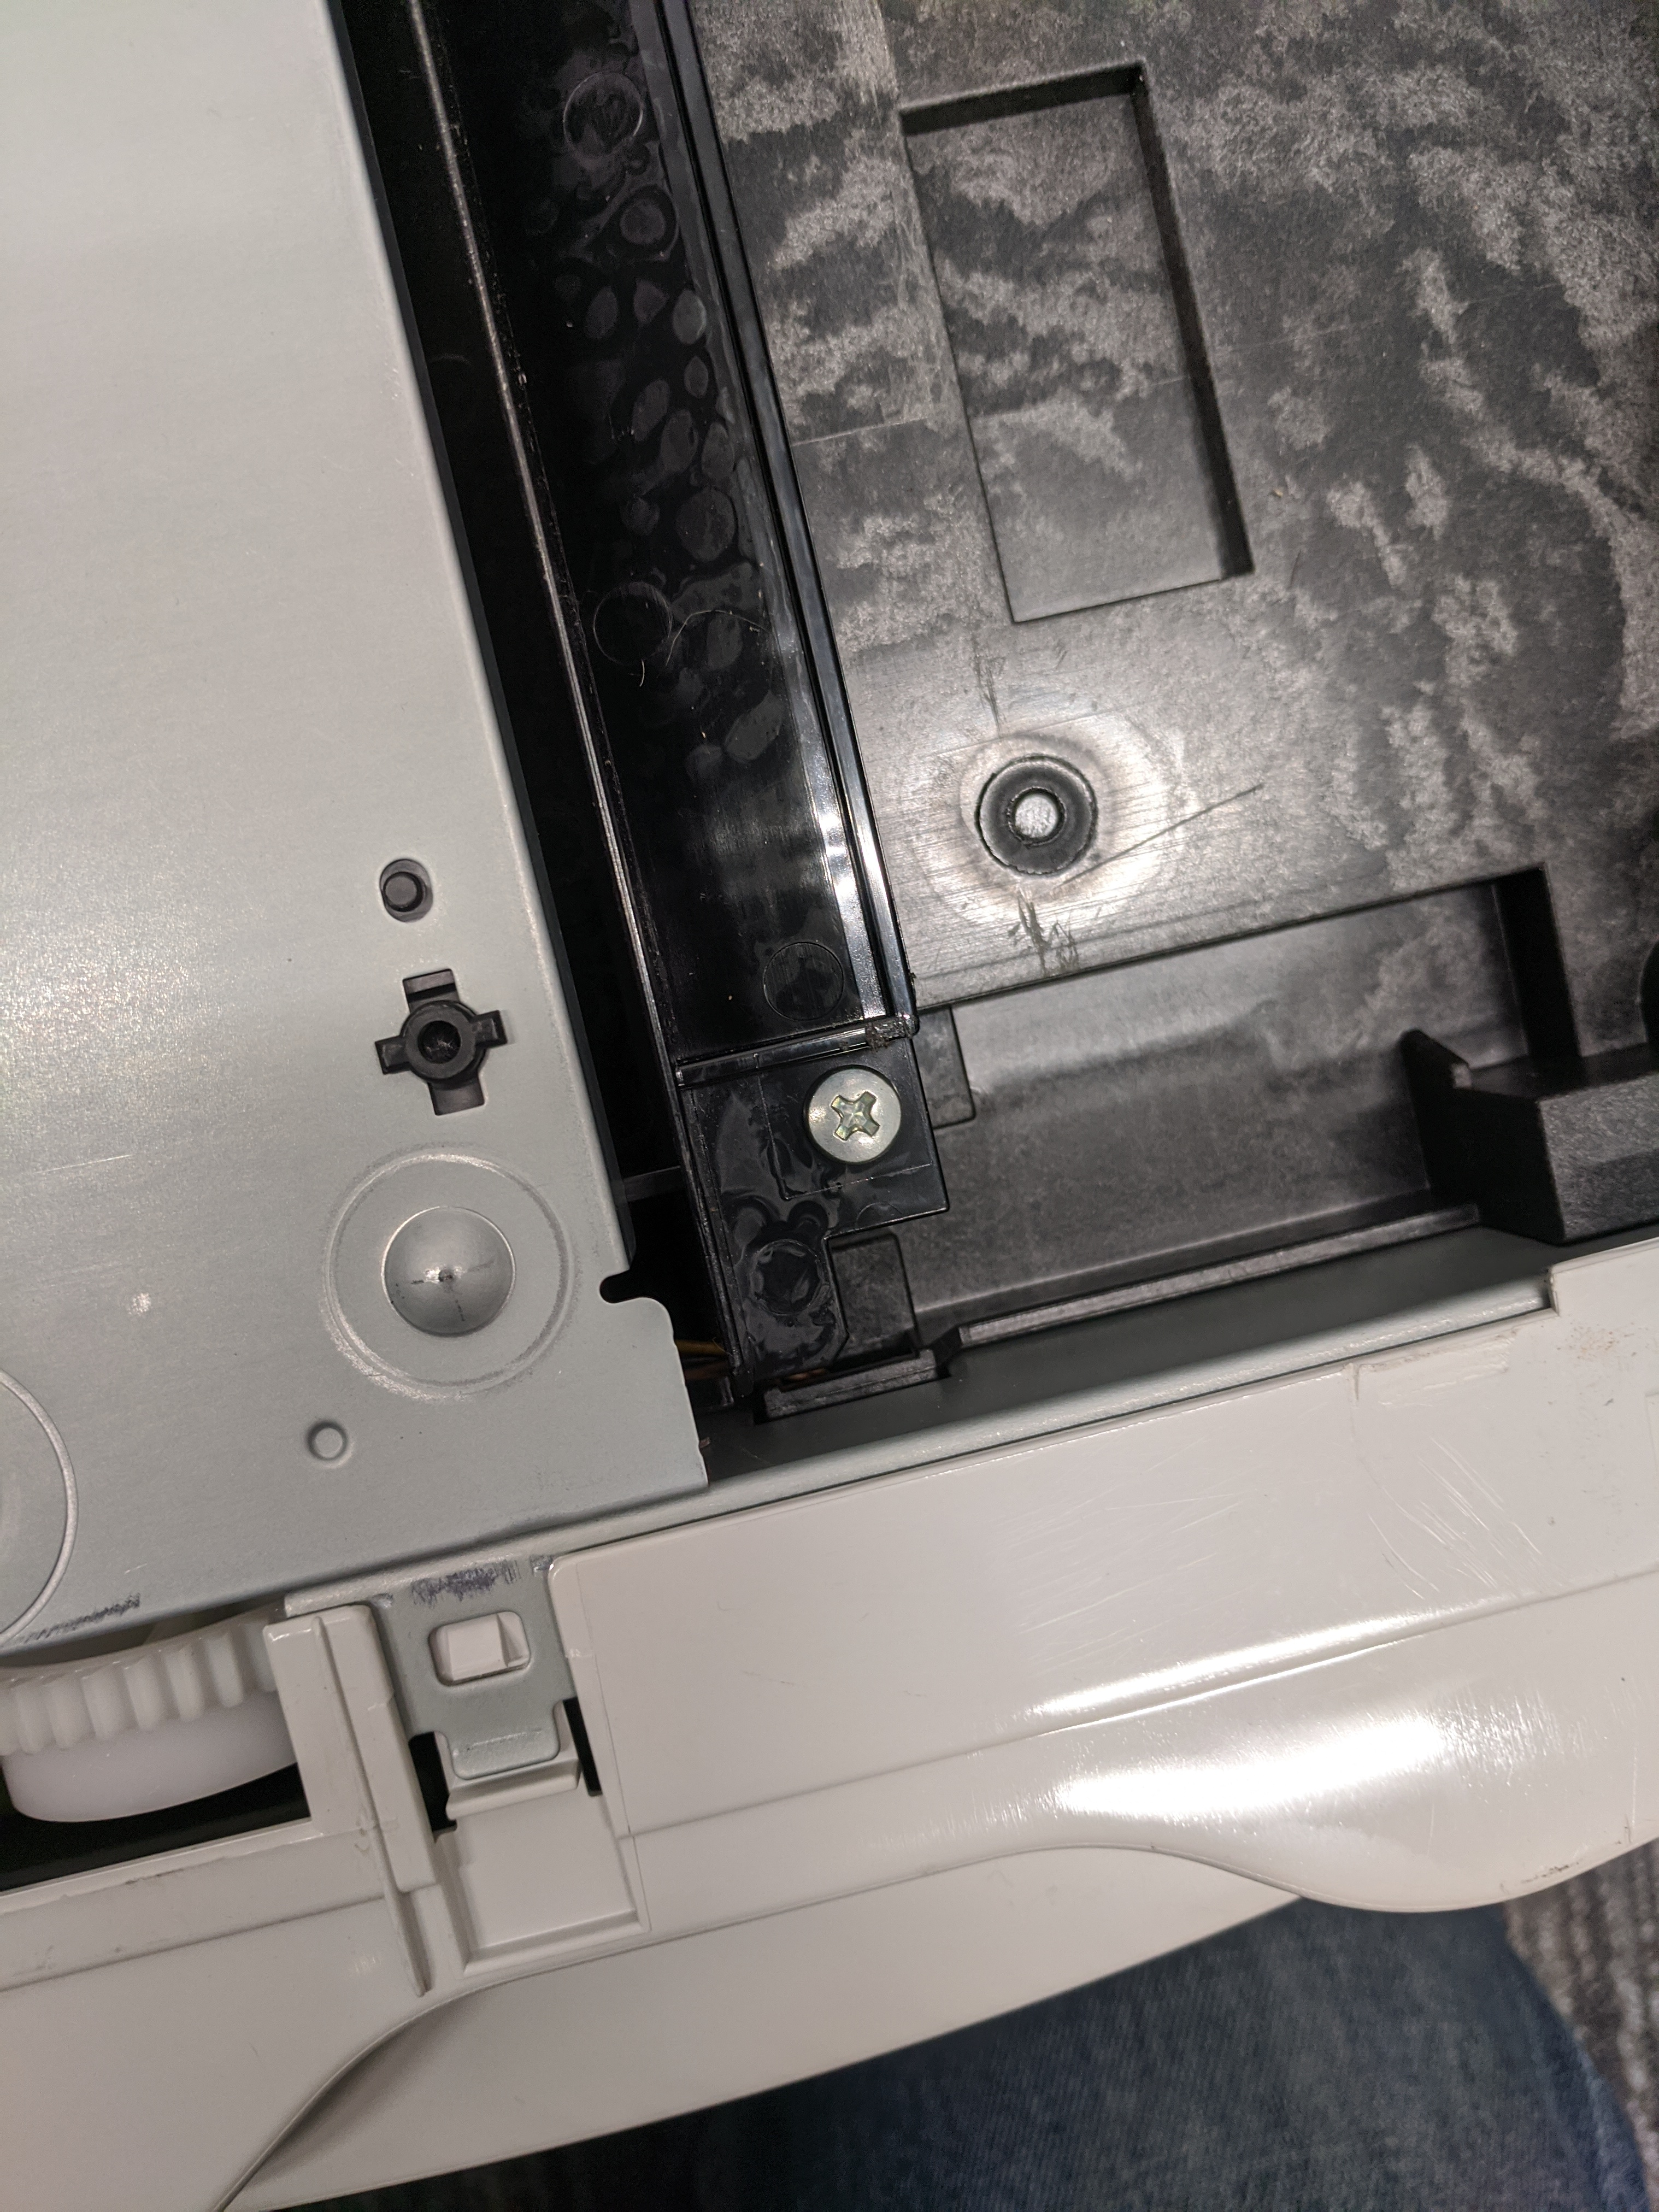cross_recessed_screw: (788, 1050, 922, 1186)
